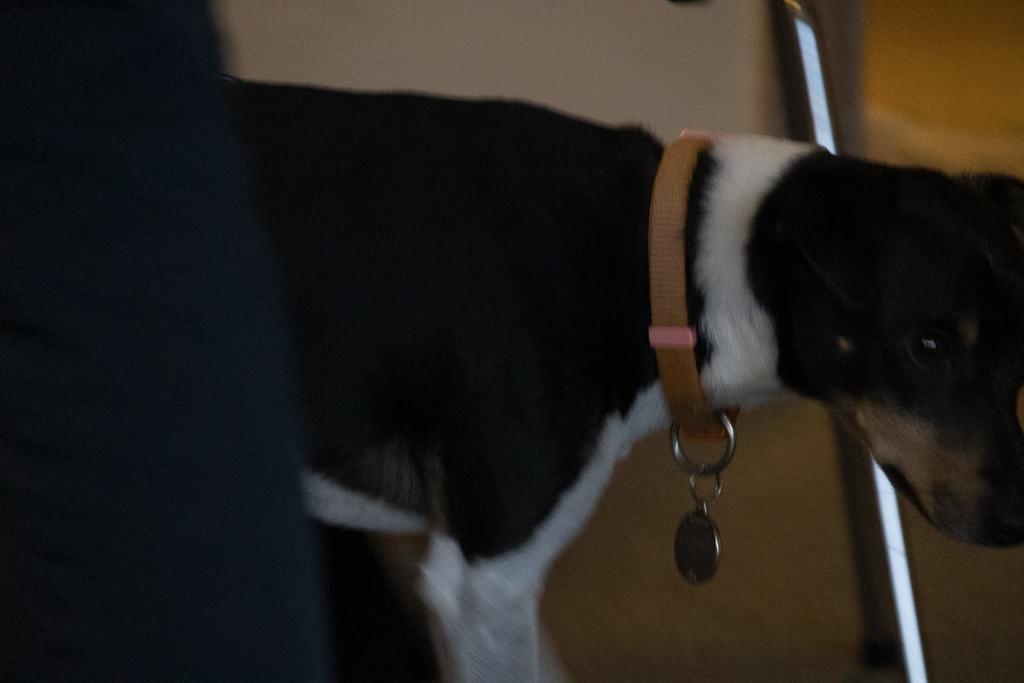Dog: (208, 69, 1024, 683)
